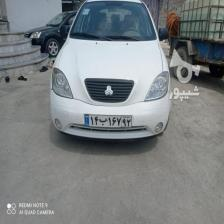plate: (84, 112, 132, 128)
